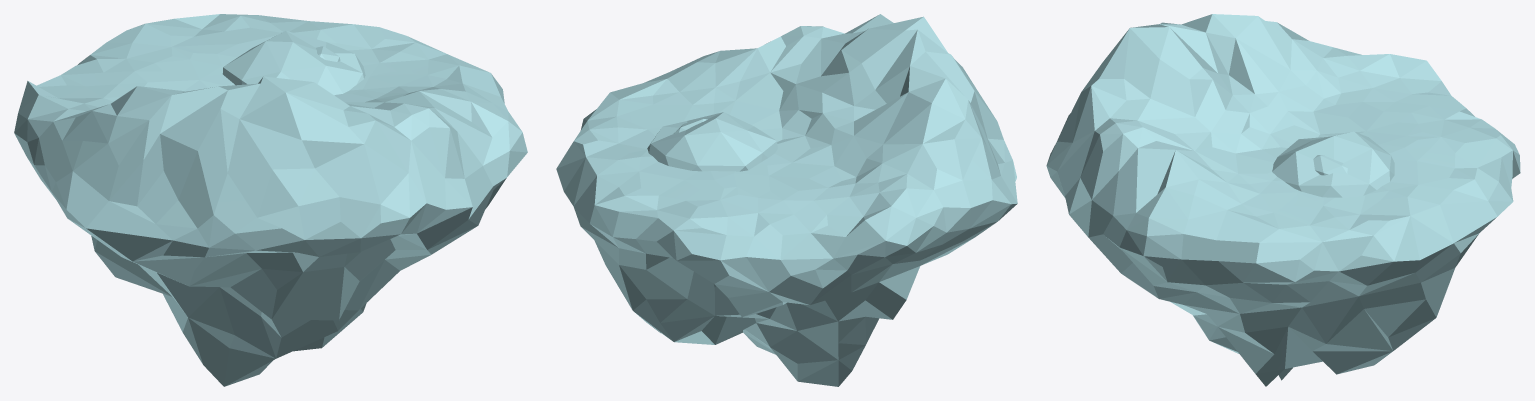
File: Icebergs.fbx
3 renders of one model, left to right at view 1: azimuth 30°, elevation 25°; view 2: azimuth 150°, elevation 25°; view 3: azimuth 270°, elevation 25°, orthographic. The views are drawn at different scales.
Parts seen in each view (by area): view 1: Iceberg, Icosphere; view 2: Iceberg, Icosphere; view 3: Iceberg, Icosphere, Icosphere.003.
Boxes of the visible parts, box(x1,y1,x2,y2) form: Iceberg: box(14, 14, 527, 386); Icosphere: box(222, 31, 365, 95); Iceberg: box(556, 14, 1017, 386); Icosphere: box(647, 112, 777, 171); Iceberg: box(1046, 14, 1520, 386); Icosphere: box(1272, 131, 1394, 197); Icosphere.003: box(1313, 155, 1347, 175).
Size of the model in its own units: 8.21 by 6.26 by 8.2.
